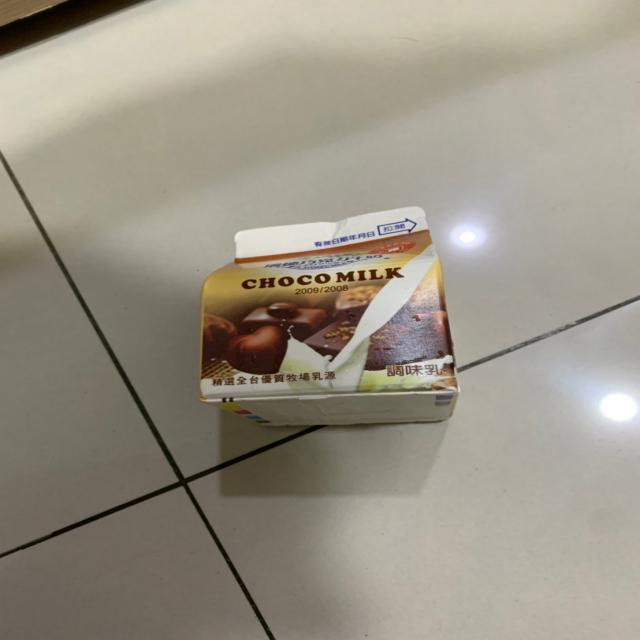non_white_jug: (164, 198, 493, 445)
